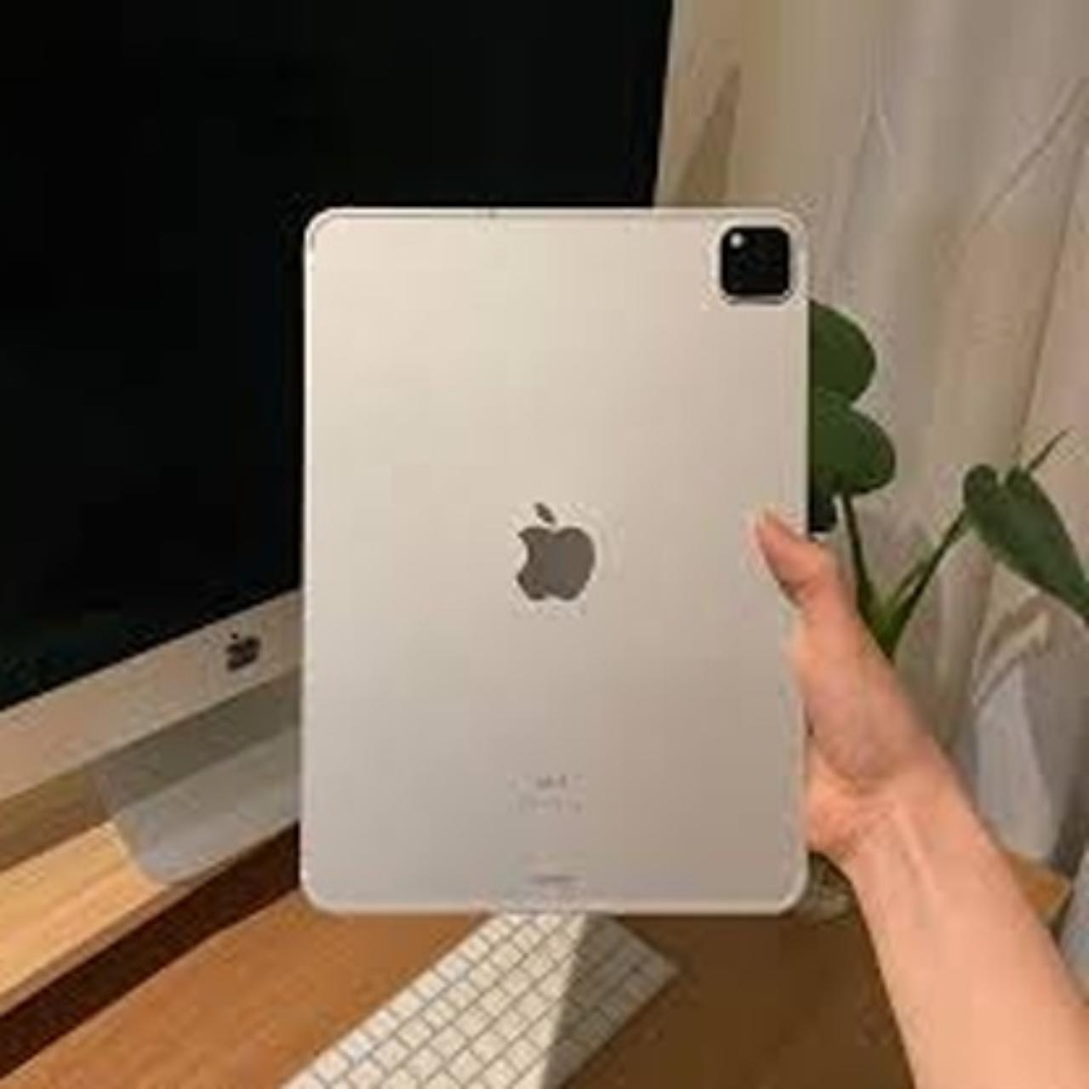Tablet_PC: (283, 194, 821, 916)
